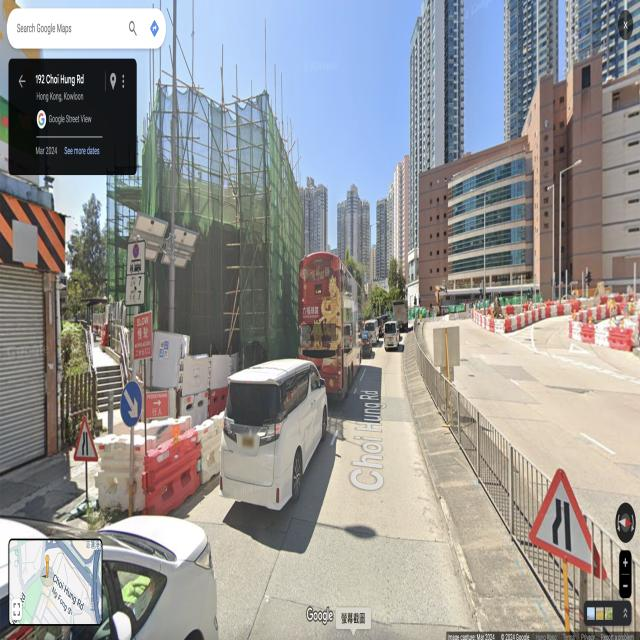Order-Sign: (126, 241, 145, 303), (120, 381, 142, 427)
Warning-Sign: (528, 467, 607, 580), (73, 415, 99, 460), (134, 316, 151, 358), (146, 394, 168, 416)
